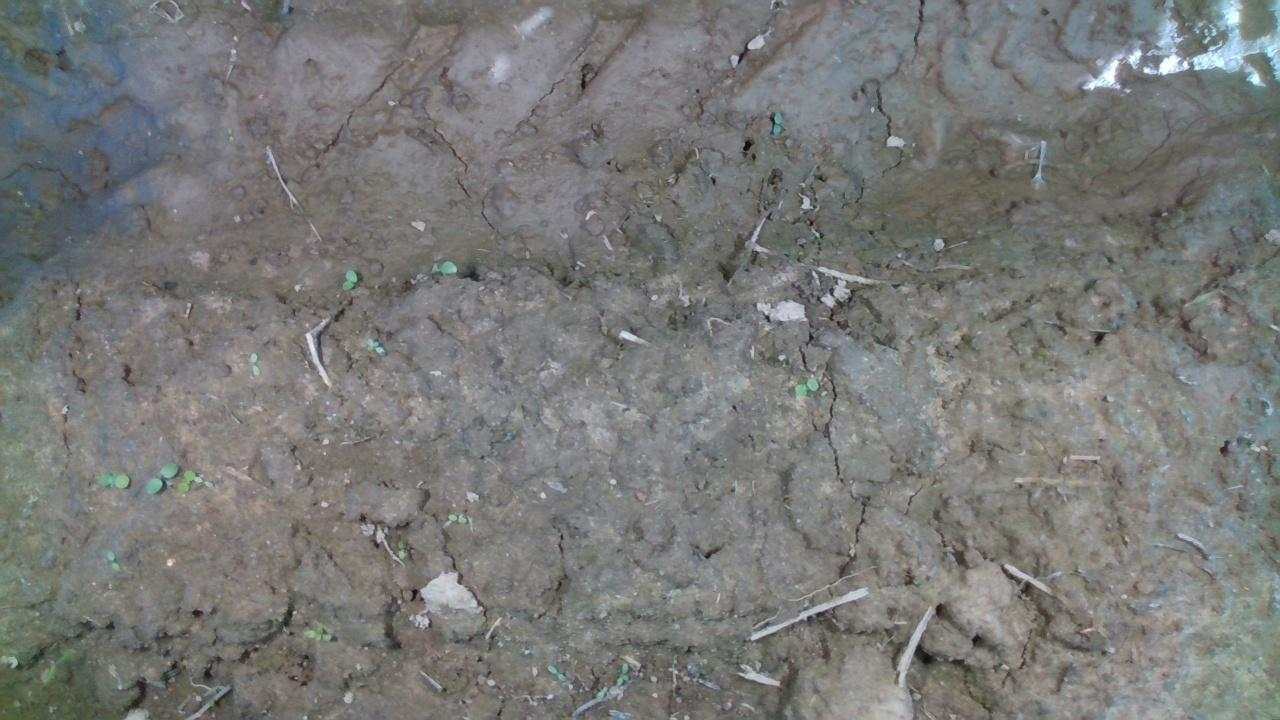weed: (147, 457, 181, 499), (789, 370, 823, 399), (96, 465, 132, 491), (336, 265, 361, 295), (299, 625, 335, 641), (441, 506, 473, 523), (361, 335, 388, 353), (392, 539, 409, 560)
